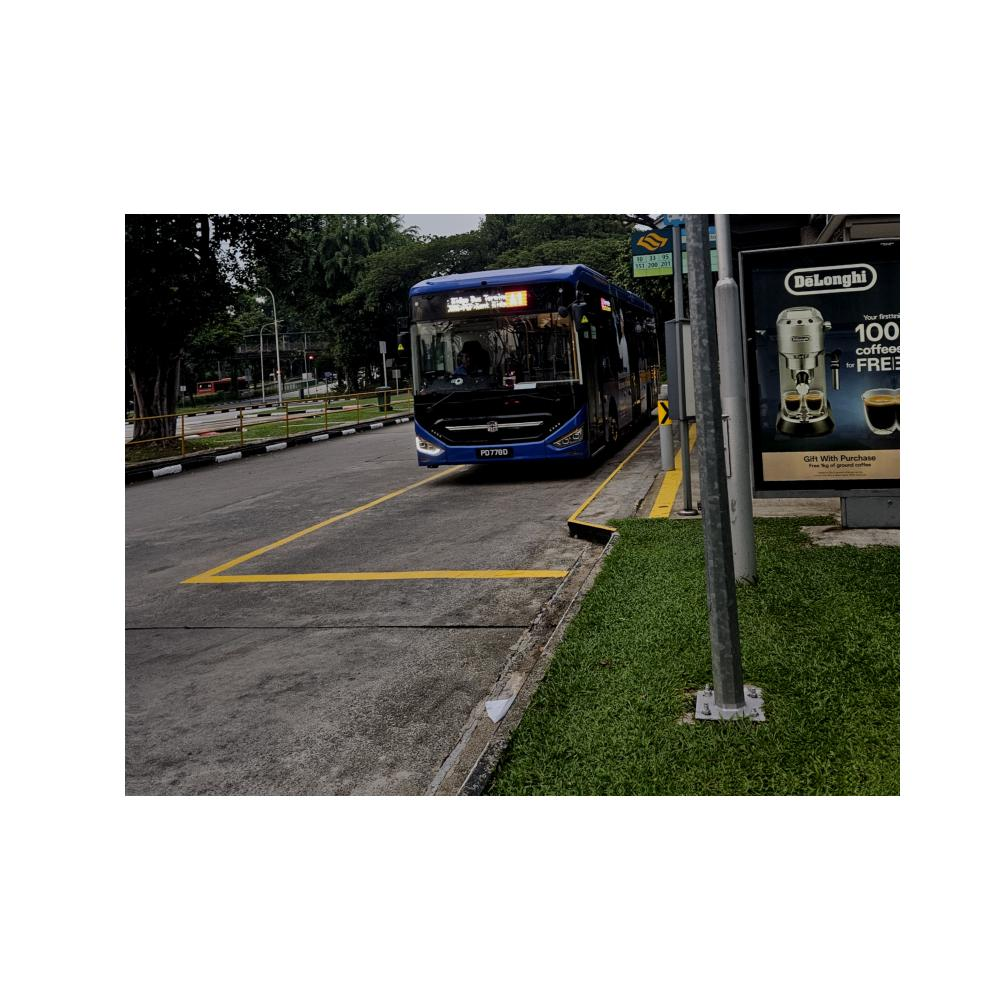bus: (403, 262, 661, 473)
